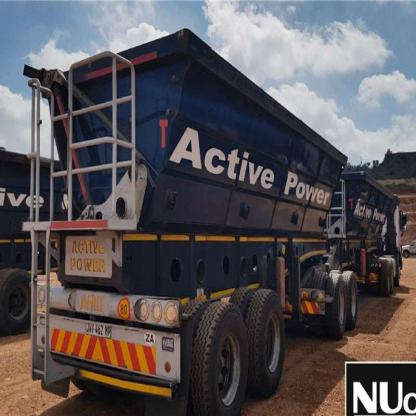dump_truck: (33, 28, 414, 410)
